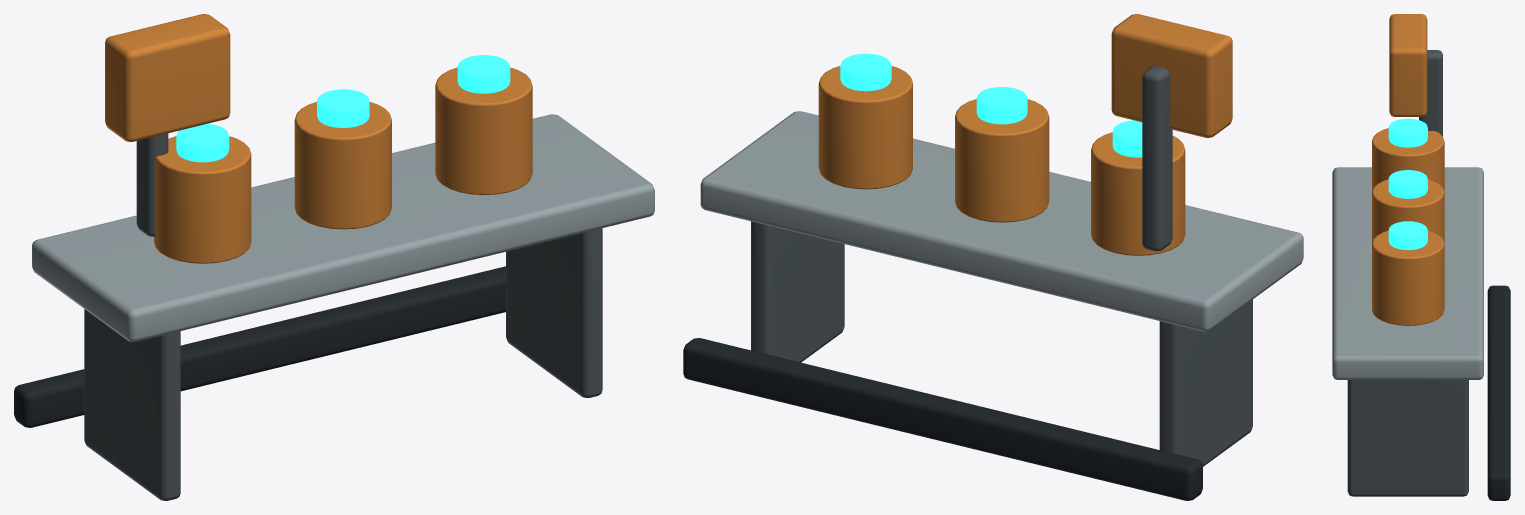
File: memory-engineering.glb
3 views of the same model, side by side, from view 1: azimuth 30°, elevation 25°; view 2: azimuth 150°, elevation 25°; view 3: azimuth 270°, elevation 25° (orthographic). The views are drawn at different scales.
Parts seen in each view (by area): view 1: memory-engineering; view 2: memory-engineering; view 3: memory-engineering.
Boxes of the visible parts, x1=… form: memory-engineering: x1=14, y1=14, x2=654, y2=500; memory-engineering: x1=683, y1=14, x2=1303, y2=500; memory-engineering: x1=1332, y1=14, x2=1510, y2=500.
Size of the model in its own units: 3 by 2.35 by 1.18.
